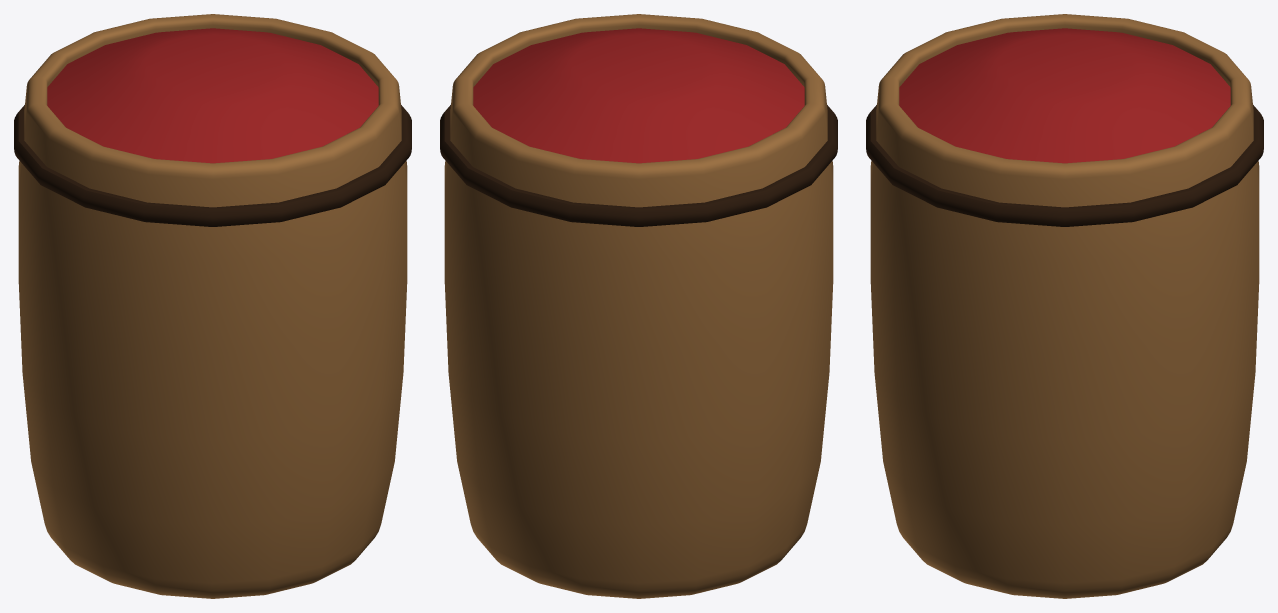
Rendered from Basket2.FBX.
3 renders of one model, left to right at view 1: azimuth 30°, elevation 25°; view 2: azimuth 150°, elevation 25°; view 3: azimuth 270°, elevation 25°, orthographic.
Parts seen in each view (by area): view 1: Basket; view 2: Basket; view 3: Basket.
Part boxes in pixels (box(x1,y1,x2,y2)): Basket: box(14, 14, 411, 598); Basket: box(440, 14, 837, 598); Basket: box(866, 14, 1263, 598).
Bounding box in the file's own units: 52.02 × 67.37 × 51.23.
